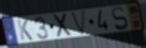3: (34, 16, 49, 41)
4: (97, 9, 110, 33)
K: (16, 18, 34, 42)
S: (110, 6, 130, 32)
V: (70, 9, 87, 37)
X: (52, 12, 74, 40)
